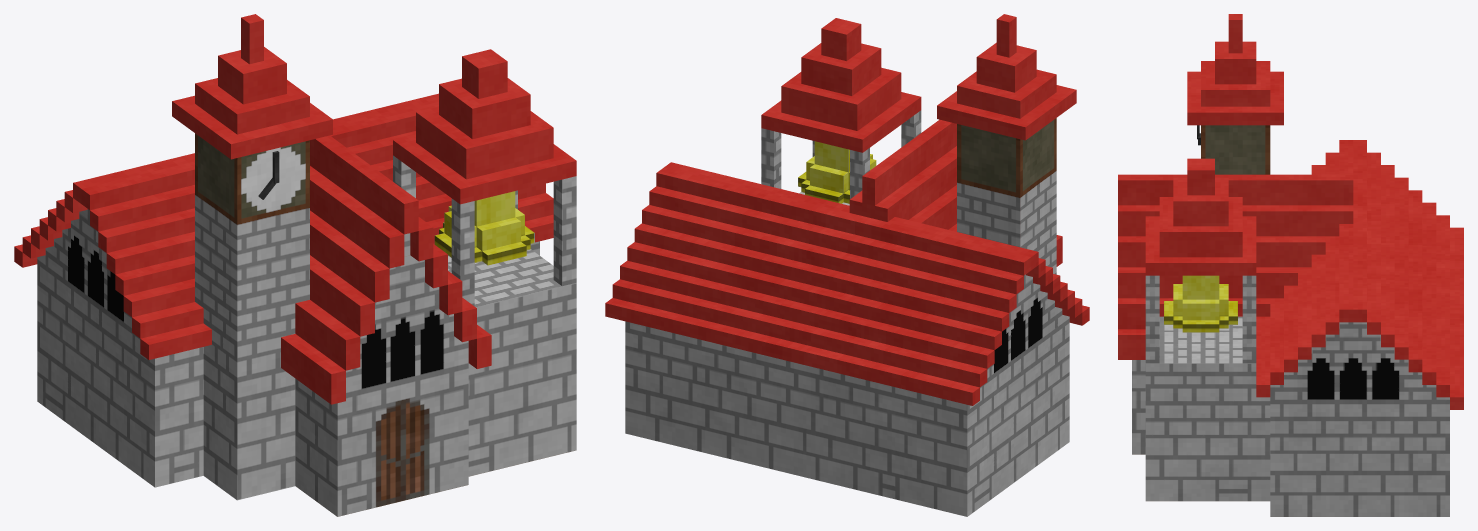
The model's file is Twierdza.fbx.
The picture shows the model from 3 angles, left to right: view 1: azimuth 30°, elevation 25°; view 2: azimuth 150°, elevation 25°; view 3: azimuth 270°, elevation 25°; orthographic projection. The views are drawn at different scales.
Parts seen in each view (by area): view 1: Cube; view 2: Cube; view 3: Cube.
Part boxes in pixels (box(x1,y1,x2,y2)): Cube: box(14, 14, 576, 516); Cube: box(605, 14, 1089, 516); Cube: box(1118, 14, 1463, 516).
Size of the model in its own units: 3000 by 3104 by 2586.
